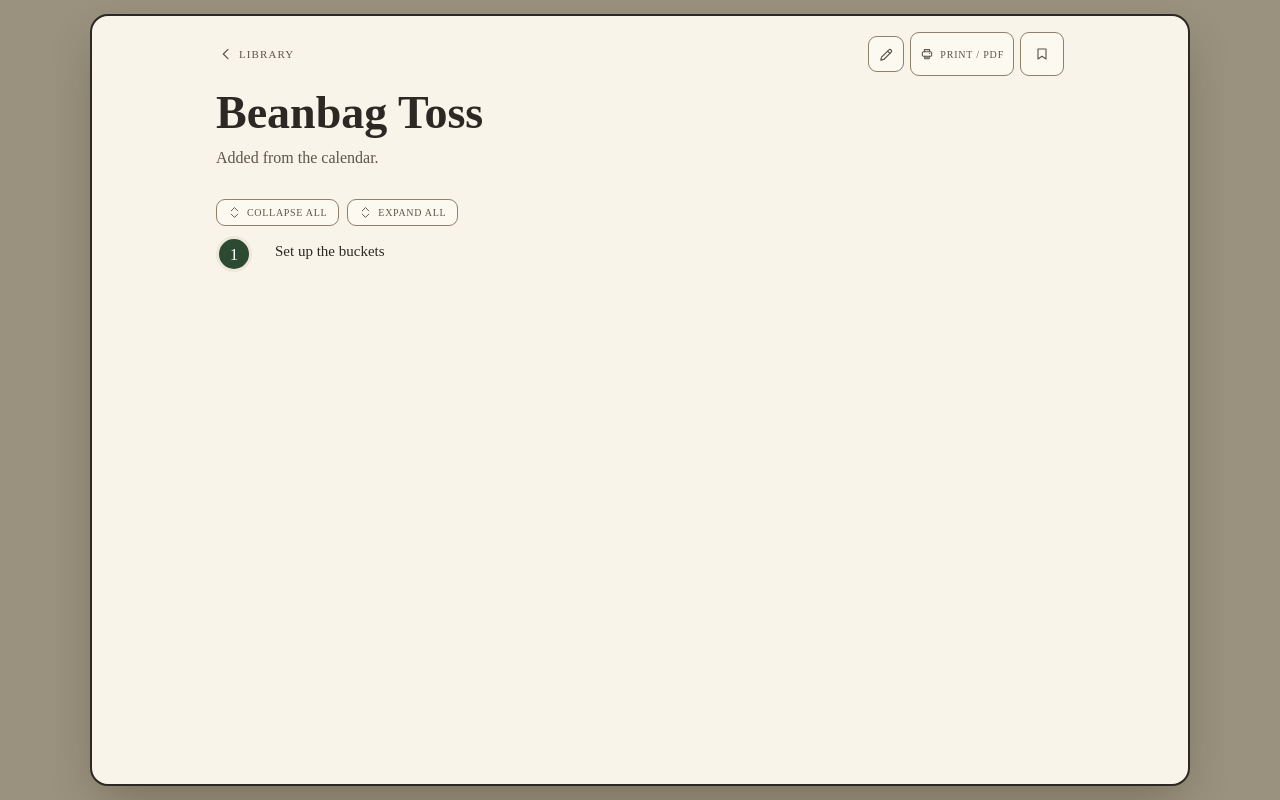
Test case: DetailSheet (view mode) › 'Edit activity' reveals the editable name field
The width and height of the screenshot is (1280, 800).
Click the button named "Edit activity": click(886, 54) [868,36,904,72]
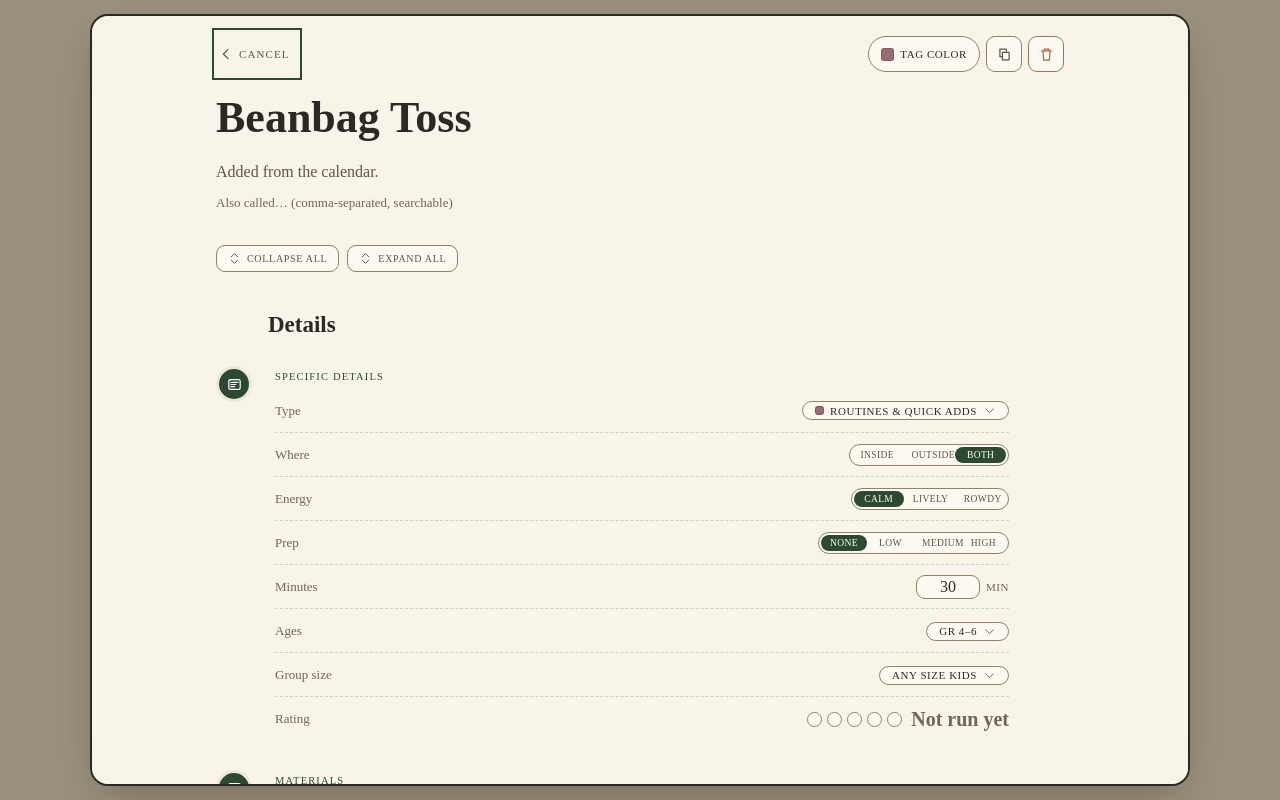
Check: the field named "Activity name" is shown, box [216,90,1064,146]
